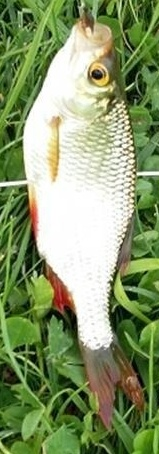Scardinius erythrophthalmus: (20, 20, 139, 434)
